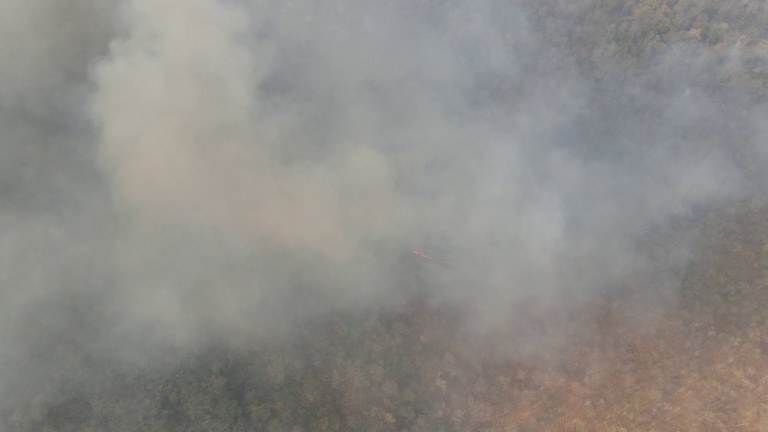fire: (403, 247, 455, 274)
smoke: (20, 2, 597, 371)
